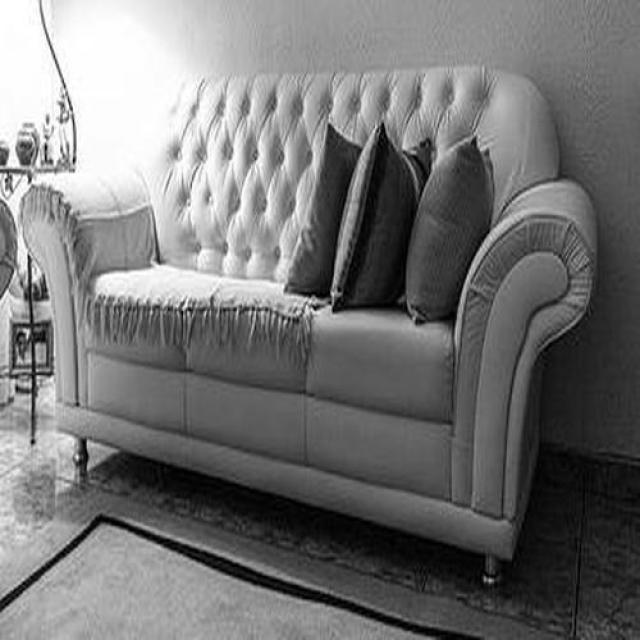sofa: (19, 68, 599, 576)
